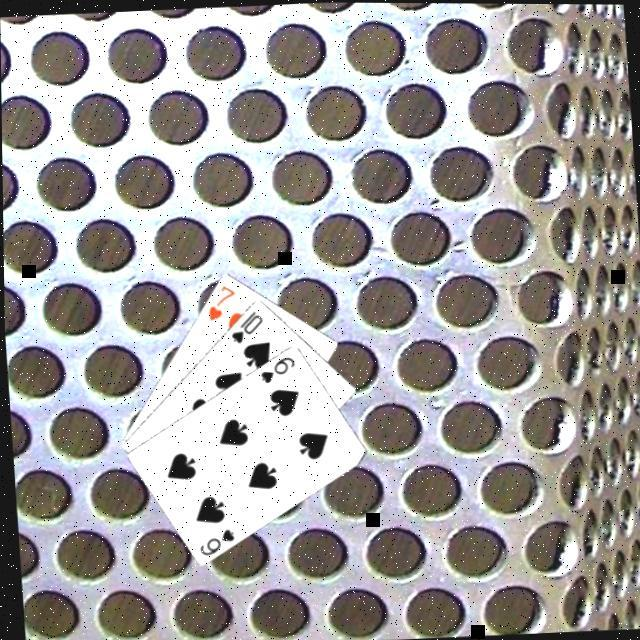10S: (227, 304, 268, 344)
6S: (196, 522, 240, 556), (258, 350, 300, 384)
7H: (204, 280, 240, 322)
